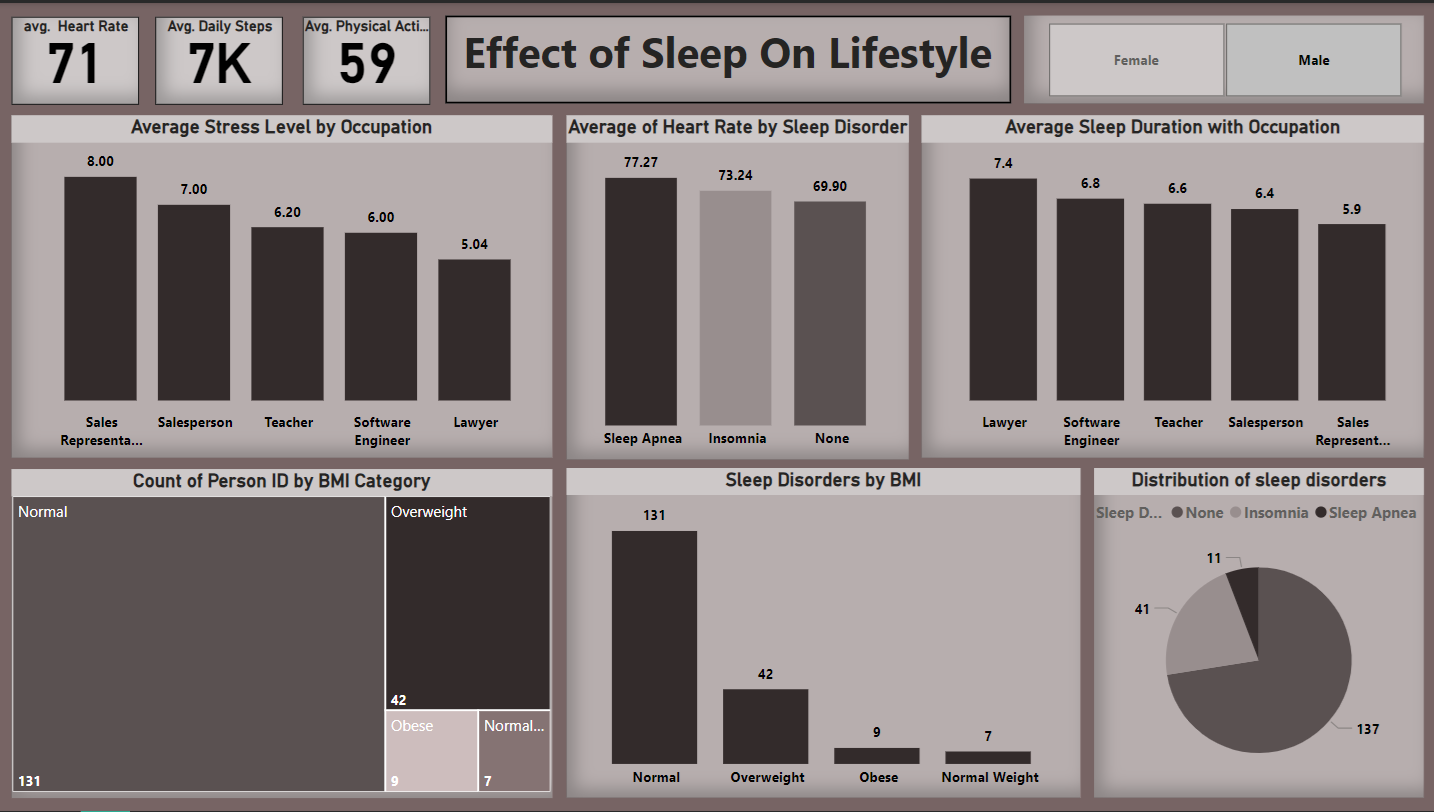

Layout of this report page (visuals, bound fields, positions):
{"tool":"powerbi","page":{"name":"Page 4","canvas":[1280,720],"ordinal":0},"visuals":[{"type":"textbox","box":[397.5,11.2,503.8,78.8],"z":0},{"type":"columnChart","title":"Average Stress Level by Occupation","fields":{"Y":["Avg(Sleep_health_and_lifestyle_dataset.Stress Level)1"],"Category":["Sleep_health_and_lifestyle_dataset.Occupation"]},"box":[11.2,100,481.2,305],"z":1000},{"type":"columnChart","title":"Average Sleep Duration with Occupation","fields":{"Category":["Sleep_health_and_lifestyle_dataset.Occupation"],"Y":["Avg(Sleep_health_and_lifestyle_dataset.Sleep Duration)1"]},"box":[821.2,100,447.5,305],"z":2000},{"type":"slicer","fields":{"Values":["Sleep_health_and_lifestyle_dataset.Gender"]},"box":[912.5,11.2,356.2,78.8],"z":3000},{"type":"treemap","fields":{"Group":["Sleep_health_and_lifestyle_dataset.BMI Category"],"Values":["CountNonNull(Sleep_health_and_lifestyle_dataset.Person ID)"]},"box":[11.2,415,481.2,292.5],"z":4000},{"type":"pieChart","title":"Distribution of sleep disorders","fields":{"Category":["Sleep_health_and_lifestyle_dataset.Sleep Disorder"],"Y":["CountNonNull(Sleep_health_and_lifestyle_dataset.Person ID)"]},"box":[975,413.8,293.8,293.8],"z":5000},{"type":"columnChart","title":"Sleep Disorders by BMI","fields":{"Category":["Sleep_health_and_lifestyle_dataset.BMI Category"],"Y":["CountNonNull(Sleep_health_and_lifestyle_dataset.Sleep Disorder)"]},"box":[505,413.8,457.5,293.8],"z":6000},{"type":"columnChart","fields":{"Category":["Sleep_health_and_lifestyle_dataset.Sleep Disorder"],"Y":["Avg(Sleep_health_and_lifestyle_dataset.Heart Rate)"]},"box":[505,100,305,306.2],"z":7000},{"type":"card","title":"Avg. Daily Steps","fields":{"Values":["Avg(Sleep_health_and_lifestyle_dataset.Daily Steps)"]},"box":[138.8,12.5,113.8,78.8],"z":8000},{"type":"card","title":"Avg. Physical Activity","fields":{"Values":["Avg(Sleep_health_and_lifestyle_dataset.Physical Activity Level)"]},"box":[270,12.5,113.8,78.8],"z":9000},{"type":"card","title":"avg.  Heart Rate","fields":{"Values":["Avg(Sleep_health_and_lifestyle_dataset.Heart Rate)"]},"box":[11.2,12.5,113.8,78.8],"z":10000}]}

Visuals, with their boxes in screenshot pixels (x1, y1, x2, y2), scaled from the page's 1280x720 canvas onto the 1434x812 screenshot:
textbox: x1=445, y1=13, x2=1010, y2=102
"Average Stress Level by Occupation" columnChart: x1=13, y1=113, x2=552, y2=457
"Average Sleep Duration with Occupation" columnChart: x1=920, y1=113, x2=1421, y2=457
slicer - Sleep_health_and_lifestyle_dataset.Gender: x1=1022, y1=13, x2=1421, y2=102
treemap - Sleep_health_and_lifestyle_dataset.BMI Category x CountNonNull(Sleep_health_and_lifestyle_dataset.Person ID): x1=13, y1=468, x2=552, y2=798
"Distribution of sleep disorders" pieChart: x1=1092, y1=467, x2=1421, y2=798
"Sleep Disorders by BMI" columnChart: x1=566, y1=467, x2=1078, y2=798
columnChart - Sleep_health_and_lifestyle_dataset.Sleep Disorder x Avg(Sleep_health_and_lifestyle_dataset.Heart Rate): x1=566, y1=113, x2=907, y2=458
"Avg. Daily Steps" card: x1=155, y1=14, x2=283, y2=103
"Avg. Physical Activity" card: x1=302, y1=14, x2=430, y2=103
"avg.  Heart Rate" card: x1=13, y1=14, x2=140, y2=103
